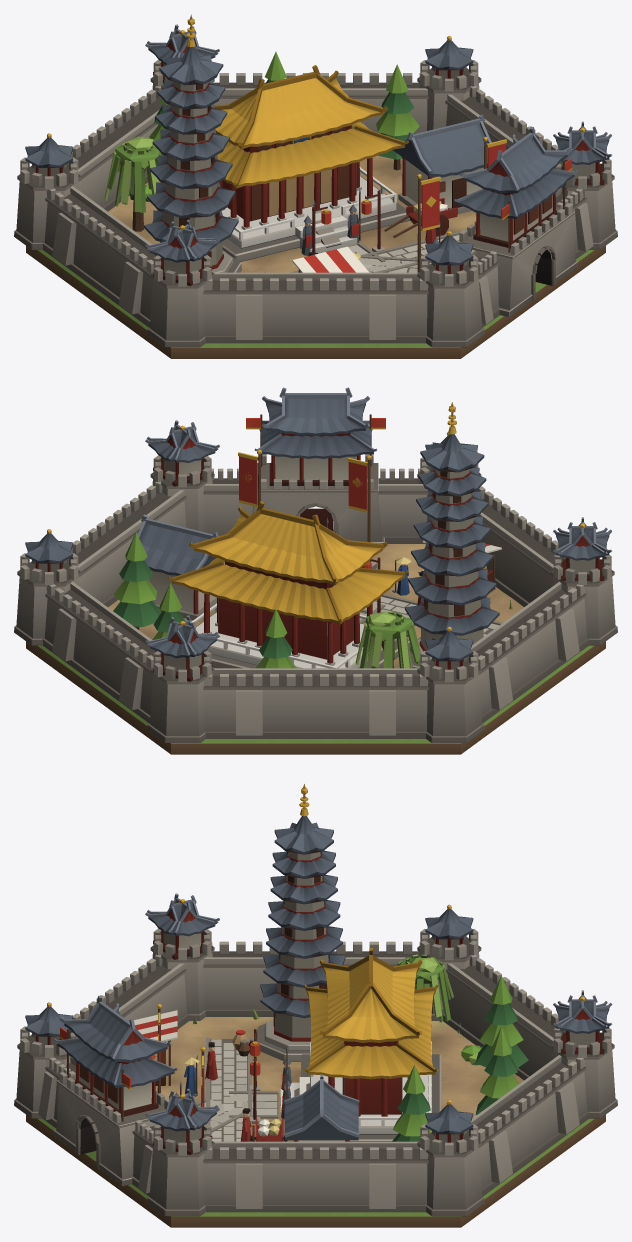
Rendered from cluster_capital.glb.
3 renders of one model, top to bottom at view 1: azimuth 30°, elevation 25°; view 2: azimuth 150°, elevation 25°; view 3: azimuth 270°, elevation 25°, orthographic.
Visible parts, largest first — view 1: palace_hall.001, hex_ground_capital, city_gate.002, pagoda.001, wall_straight.017, wall_straight.018, wall_corner_jiaolou.002, wall_corner.008, house_small_a.003, wall_straight.015, wall_corner_jiaolou.003, wall_corner.007 (+16 smaller); view 2: palace_hall.001, city_gate.002, pagoda.001, hex_ground_capital, wall_straight.014, wall_straight.013, wall_corner_jiaolou.001, wall_corner.007, wall_corner_jiaolou.002, wall_straight.016, wall_straight.023, house_small_a.003 (+16 smaller); view 3: hex_ground_capital, palace_hall.001, pagoda.001, city_gate.002, wall_straight.021, wall_straight.022, wall_corner_jiaolou.003, wall_corner.009, wall_corner_jiaolou.001, wall_straight.024, wall_corner_jiaolou.002, wall_straight.016 (+16 smaller).
Boxes of the visible parts, left/top/right/bottom form: palace_hall.001: left=214, top=65, right=409, bottom=261; hex_ground_capital: left=26, top=155, right=605, bottom=358; city_gate.002: left=454, top=126, right=577, bottom=317; pagoda.001: left=144, top=14, right=241, bottom=272; wall_straight.017: left=203, top=272, right=315, bottom=343; wall_straight.018: left=316, top=272, right=428, bottom=343; wall_corner_jiaolou.002: left=145, top=219, right=219, bottom=347; wall_corner.008: left=417, top=231, right=484, bottom=347; house_small_a.003: left=393, top=114, right=491, bottom=213; wall_straight.015: left=42, top=186, right=128, bottom=289; wall_corner_jiaolou.003: left=553, top=121, right=617, bottom=249; wall_corner.007: left=14, top=133, right=81, bottom=249; palace_hall.001: left=168, top=501, right=410, bottom=668; city_gate.002: left=246, top=387, right=385, bottom=548; pagoda.001: left=405, top=402, right=499, bottom=668; hex_ground_capital: left=26, top=529, right=605, bottom=754; wall_straight.014: left=316, top=668, right=428, bottom=738; wall_straight.013: left=203, top=668, right=315, bottom=738; wall_corner_jiaolou.001: left=145, top=615, right=219, bottom=742; wall_corner.007: left=417, top=626, right=484, bottom=742; wall_corner_jiaolou.002: left=550, top=517, right=617, bottom=645; wall_straight.016: left=503, top=581, right=589, bottom=685; wall_straight.023: left=42, top=581, right=128, bottom=685; house_small_a.003: left=126, top=514, right=223, bottom=620; hex_ground_capital: left=26, top=1009, right=605, bottom=1227; palace_hall.001: left=280, top=948, right=441, bottom=1141; pagoda.001: left=256, top=784, right=345, bottom=1061; city_gate.002: left=54, top=995, right=177, bottom=1186; wall_straight.021: left=203, top=1141, right=315, bottom=1212; wall_straight.022: left=316, top=1141, right=428, bottom=1212; wall_corner_jiaolou.003: left=145, top=1088, right=219, bottom=1216; wall_corner.009: left=417, top=1100, right=484, bottom=1216; wall_corner_jiaolou.001: left=550, top=990, right=617, bottom=1118; wall_straight.024: left=503, top=1055, right=589, bottom=1158; wall_corner_jiaolou.002: left=145, top=893, right=219, bottom=1020; wall_straight.016: left=203, top=941, right=278, bottom=1016.
Bounding box in the file's own units: 18.52 × 10.46 × 20.84.
